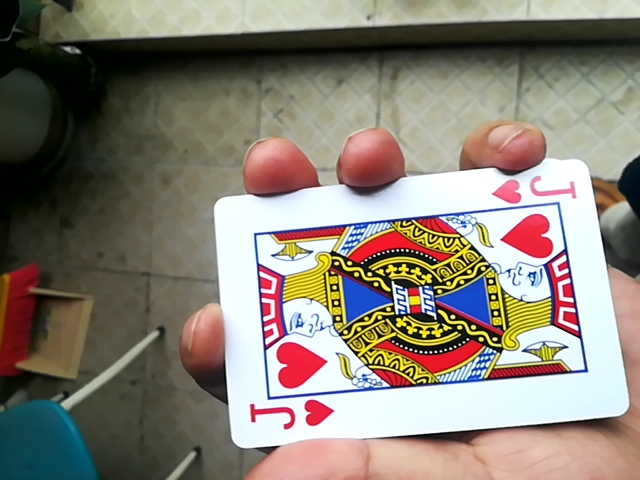hx j: (216, 161, 633, 447)
